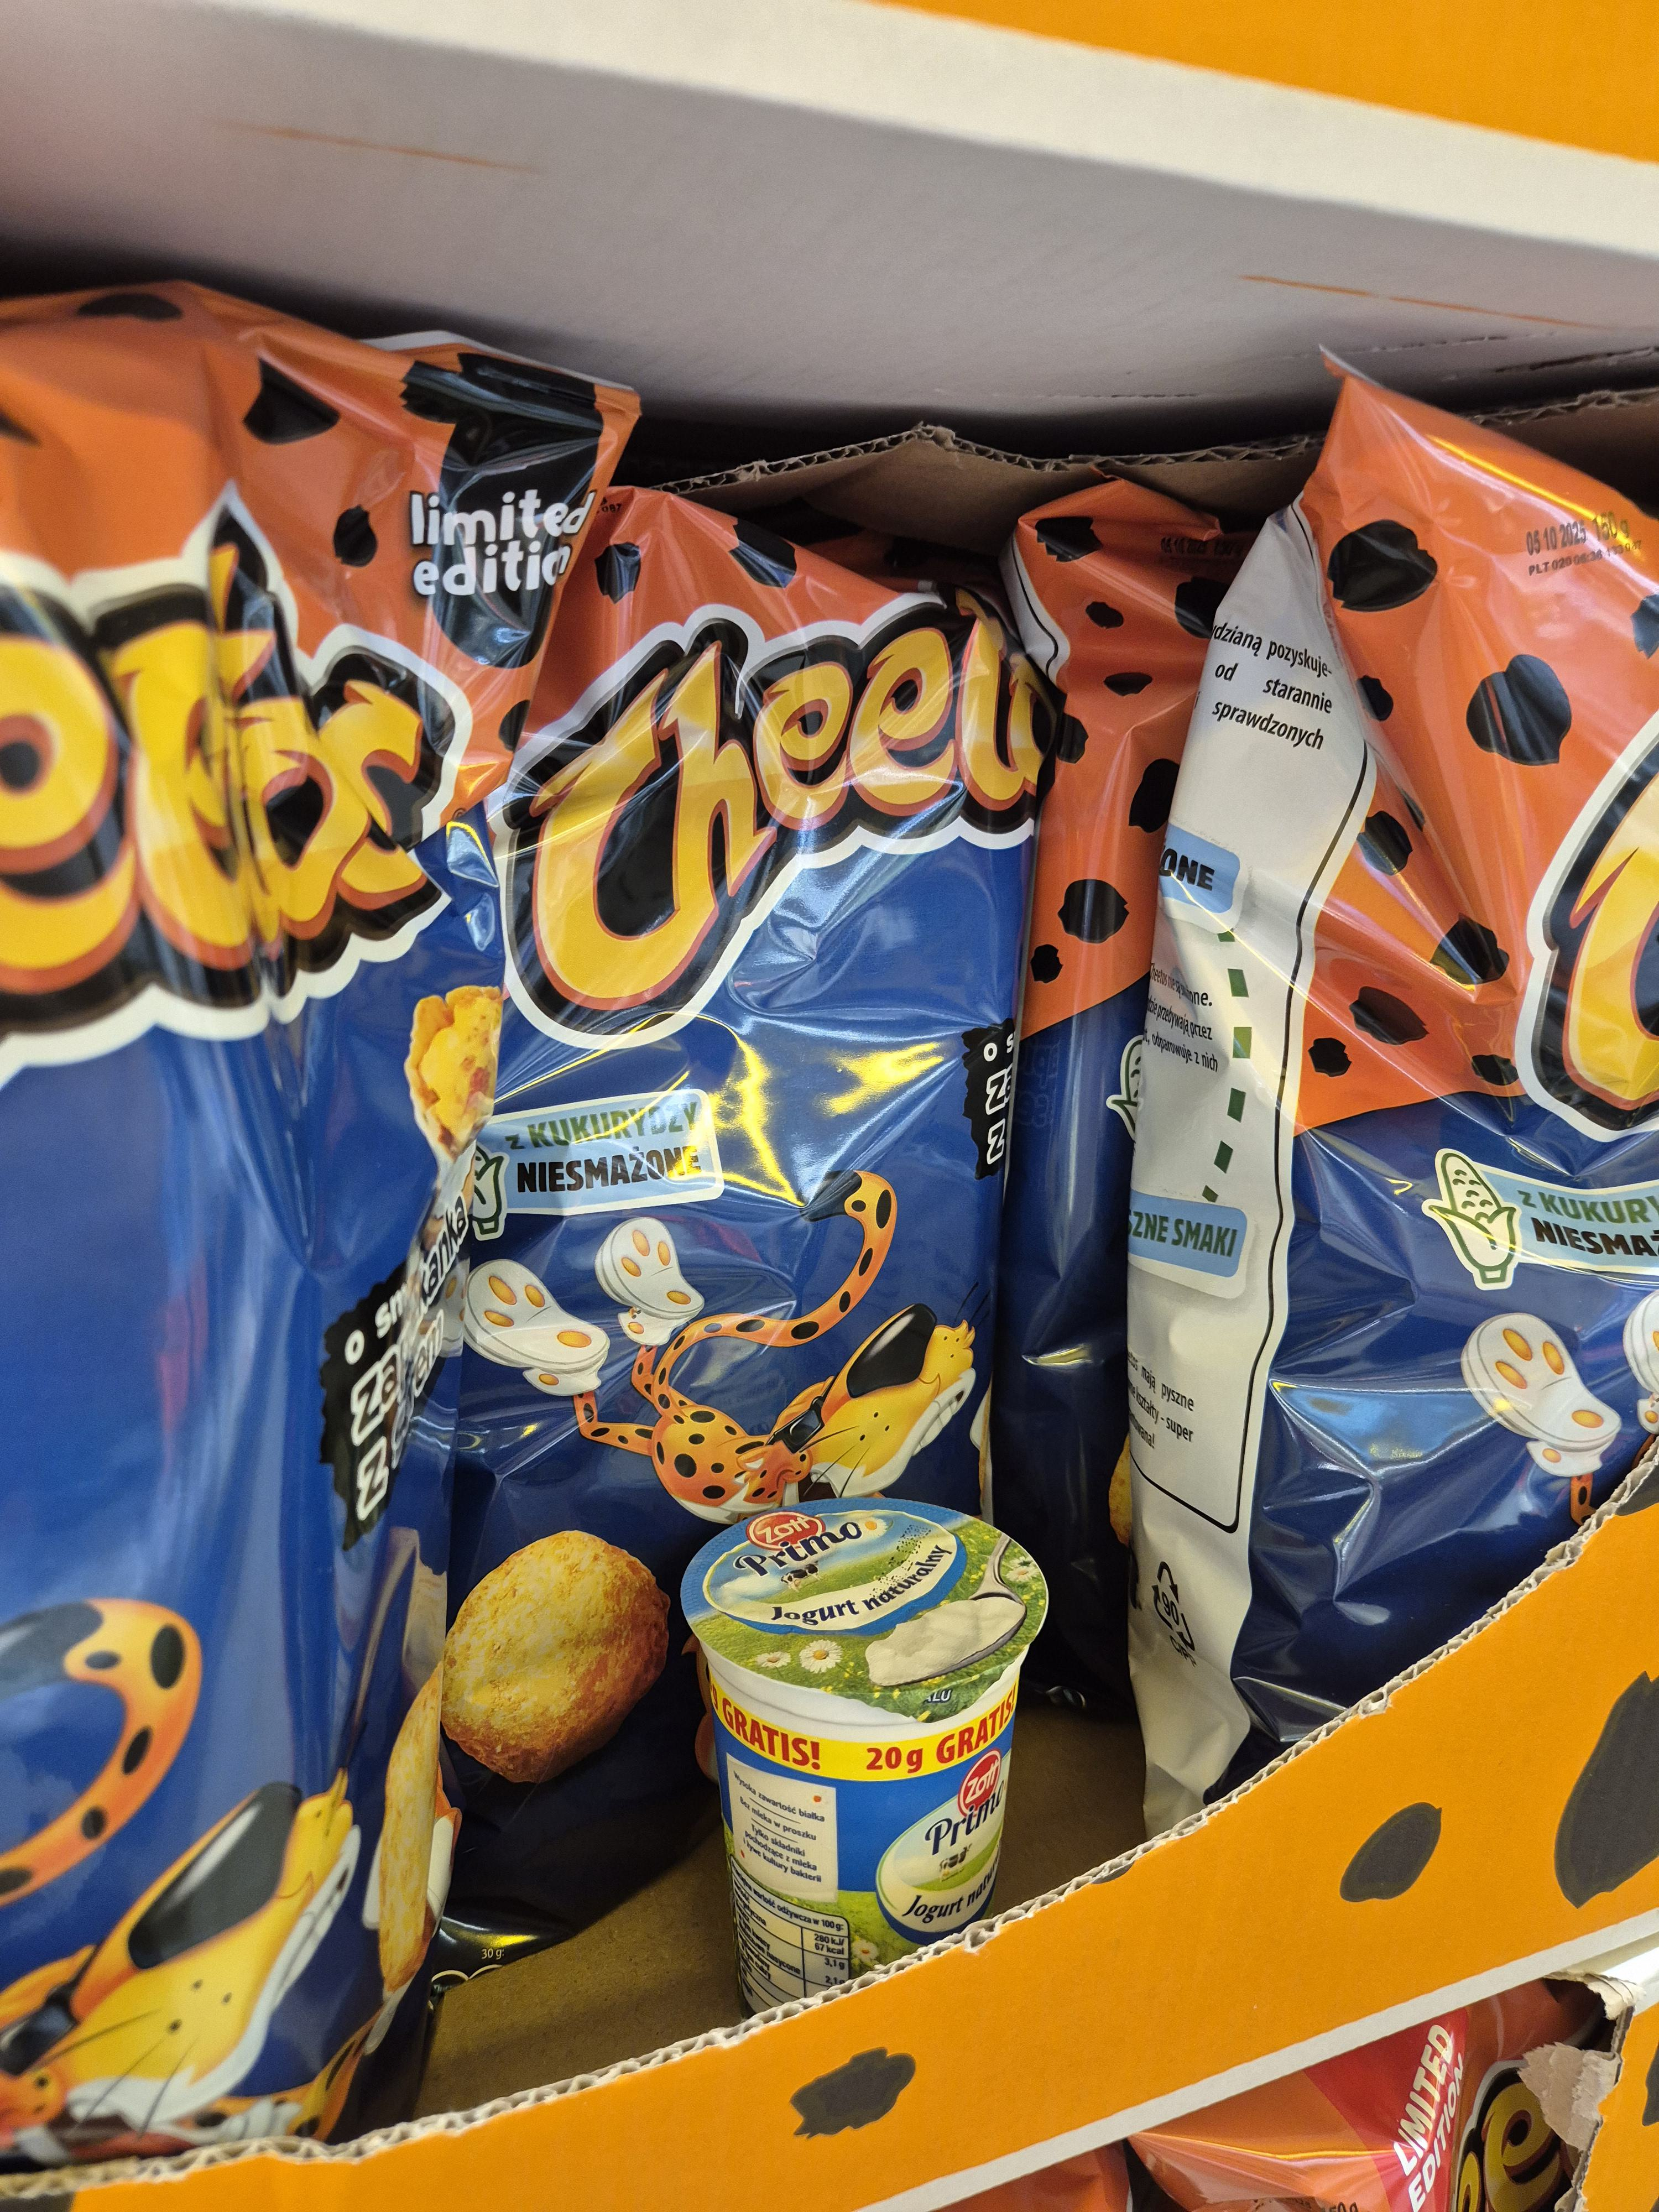Yogurt: (681, 1491, 1037, 2010)
